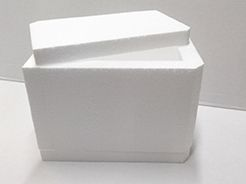Foam Box: (19, 8, 207, 166)
